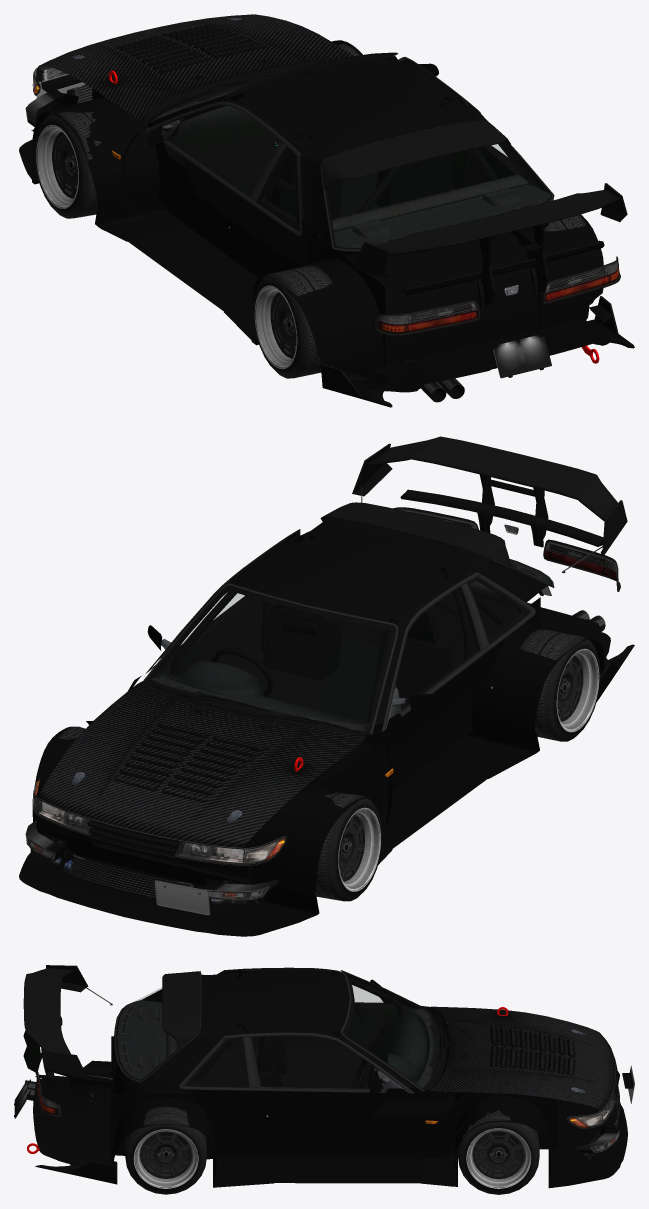
The model's file is 1992 Nissan Silvia K's DIA Selection Custom.obj.
The picture shows the model from 3 angles, top to bottom: view 1: azimuth 30°, elevation 25°; view 2: azimuth 150°, elevation 25°; view 3: azimuth 270°, elevation 25°; orthographic projection. The views are drawn at different scales.
Visible parts, largest first — view 1: Bodyunrefunblend11, Bodyunrefunblend1, Bodymatteunblend11, Bonnetrefunblend1, Nissanps131992silviahswh0021, Nissanps131992silviahswh1, Bodymatteunblend21, Bodymatteunblend1, Punchaddlightaddita1, Bonnetunrefunblend1, Bodyrefunblend11; view 2: Bodyunrefunblend1, Bodyunrefunblend11, Bonnetrefunblend1, Bodymatteunblend11, Nissanps131992silviahswh0021, Nissanps131992silviahswh1, Bodymatteunblend1, Bonnetunrefunblend1, Bodymatteunblend21, Bodyrefunblend11, Numberplate1, Punchaddlightaddita1 (+2 smaller); view 3: Bodyunrefunblend11, Bodyunrefunblend1, Bonnetrefunblend1, Bodymatteunblend11, Nissanps131992silviahswh0031, Nissanps131992silviahswh0011, Bodymatteunblend1, Bodymatteunblend21, Bonnetunrefunblend1, Punchaddlightaddita1, Glass1.
Part boxes in pixels (x1,y1,x2,y2): Bodyunrefunblend11: [19, 40, 610, 402]; Bodyunrefunblend1: [33, 52, 552, 265]; Bodymatteunblend11: [321, 121, 627, 308]; Bonnetrefunblend1: [38, 14, 353, 119]; Nissanps131992silviahswh0021: [253, 266, 334, 378]; Nissanps131992silviahswh1: [35, 111, 102, 218]; Bodymatteunblend21: [149, 120, 634, 407]; Bodymatteunblend1: [143, 52, 554, 251]; Punchaddlightaddita1: [32, 73, 618, 378]; Bonnetunrefunblend1: [31, 25, 599, 363]; Bodyrefunblend11: [378, 262, 617, 328]; Bodyunrefunblend1: [33, 517, 552, 865]; Bodyunrefunblend11: [19, 591, 610, 936]; Bonnetrefunblend1: [38, 680, 365, 847]; Bodymatteunblend11: [322, 436, 627, 573]; Nissanps131992silviahswh0021: [520, 629, 600, 741]; Nissanps131992silviahswh1: [315, 792, 382, 901]; Bodymatteunblend1: [143, 516, 554, 735]; Bonnetunrefunblend1: [30, 709, 306, 910]; Bodymatteunblend21: [87, 507, 634, 853]; Bodyrefunblend11: [406, 511, 616, 579]; Numberplate1: [154, 586, 551, 915]; Punchaddlightaddita1: [32, 578, 618, 863]; Bodyunrefunblend11: [14, 1036, 633, 1188]; Bodyunrefunblend1: [115, 969, 617, 1128]; Bonnetrefunblend1: [429, 1006, 615, 1110]; Bodymatteunblend11: [23, 965, 200, 1081]; Nissanps131992silviahswh0031: [125, 1106, 206, 1194]; Nissanps131992silviahswh0011: [458, 1110, 539, 1194]; Bodymatteunblend1: [113, 967, 427, 1093]; Bodymatteunblend21: [35, 1016, 618, 1184]; Bonnetunrefunblend1: [27, 1007, 620, 1159]; Punchaddlightaddita1: [14, 1077, 610, 1126]; Glass1: [131, 985, 615, 1119].
Size of the model in its own units: 7.64 by 4.65 by 17.57.
Materials: 7 (7 with a texture image).
